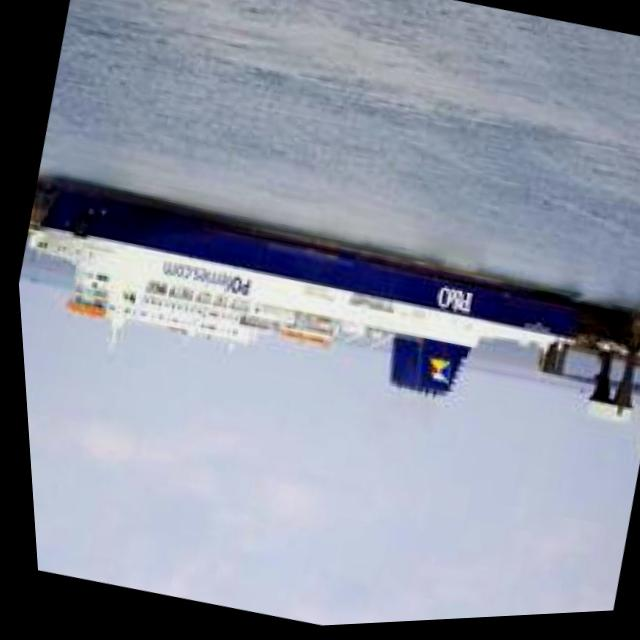ship2: (22, 185, 589, 401)
